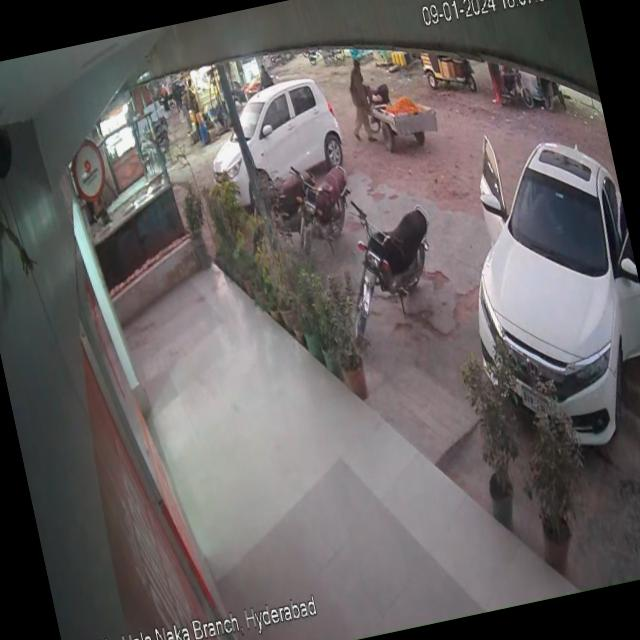Car: (429, 85, 640, 475), (175, 59, 352, 204)
Motorcycle: (324, 174, 459, 346), (286, 152, 366, 250)
